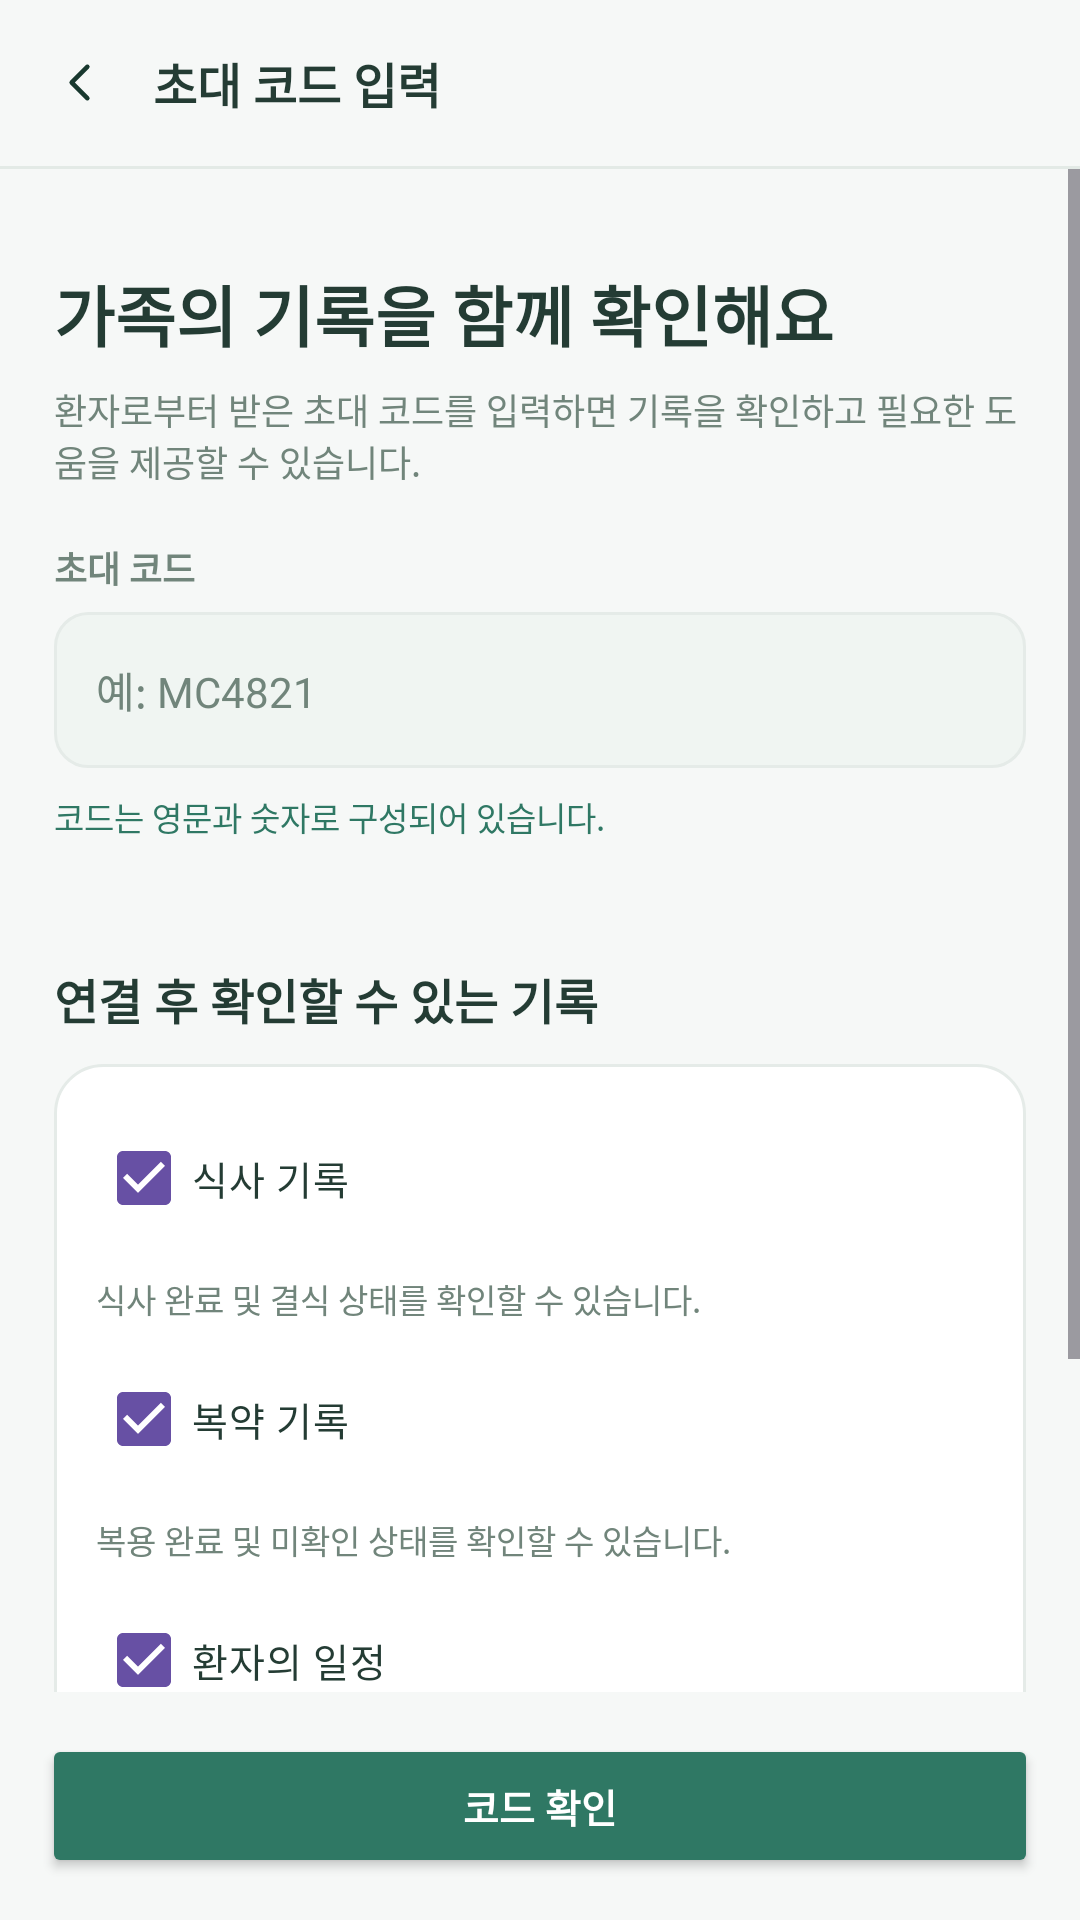

Point at icon controls on the screen. Image size 1080 x 1920, points as [x,y].
back: [79,82]
